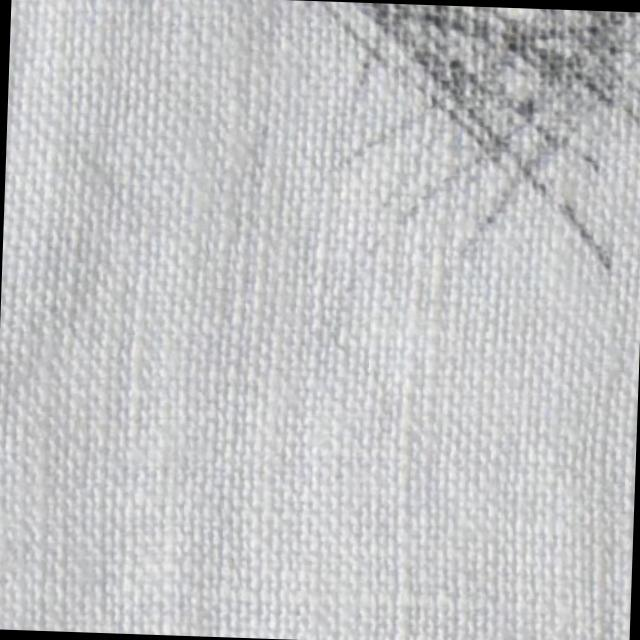Stain: (305, 0, 640, 291)
